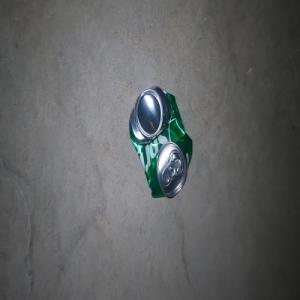SodaCan: (128, 84, 192, 198)
